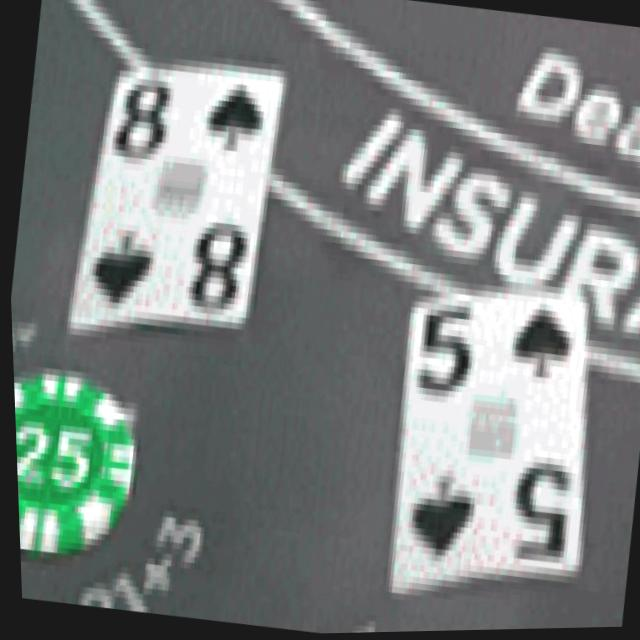Card-5: (388, 294, 579, 595)
Card-8: (68, 67, 285, 326)
